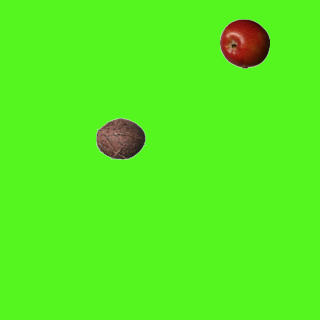Apple Braeburn: (219, 18, 269, 68)
Cocos: (95, 113, 145, 163)
